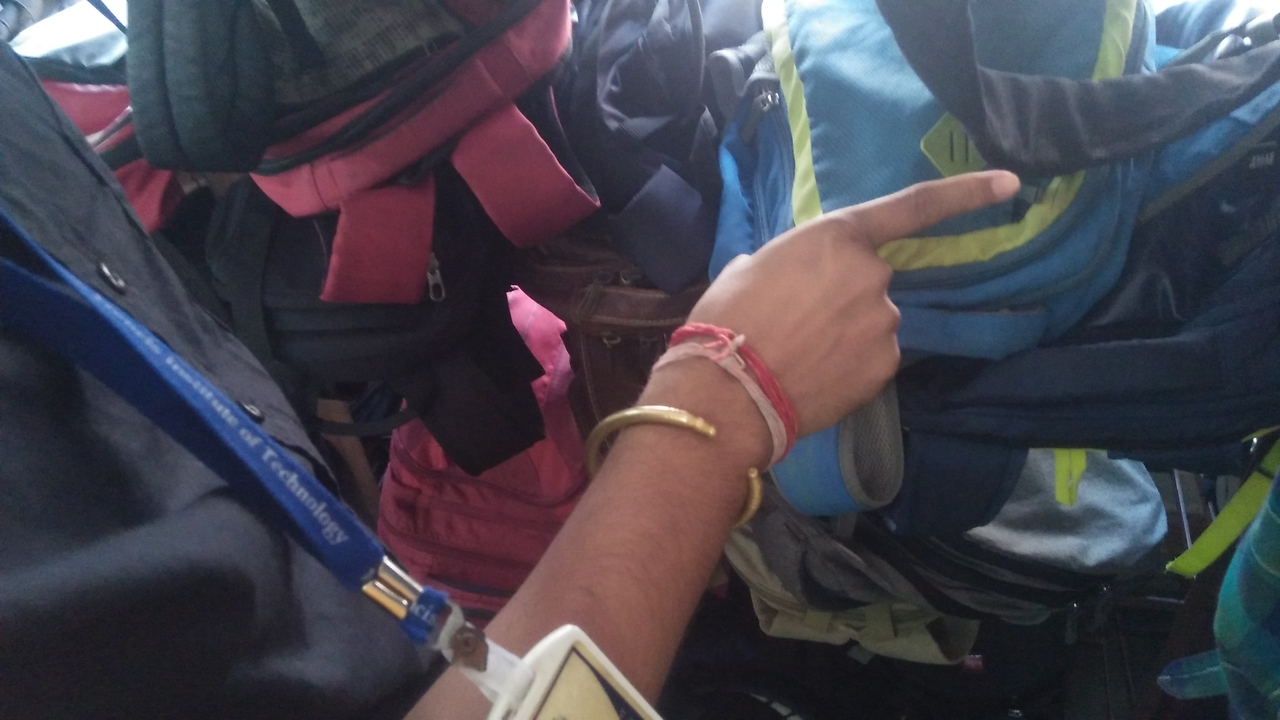fingertip: (965, 158, 1028, 215)
